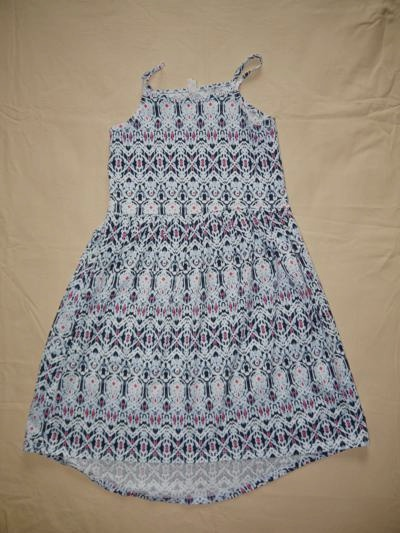Dress: (8, 38, 387, 510)
